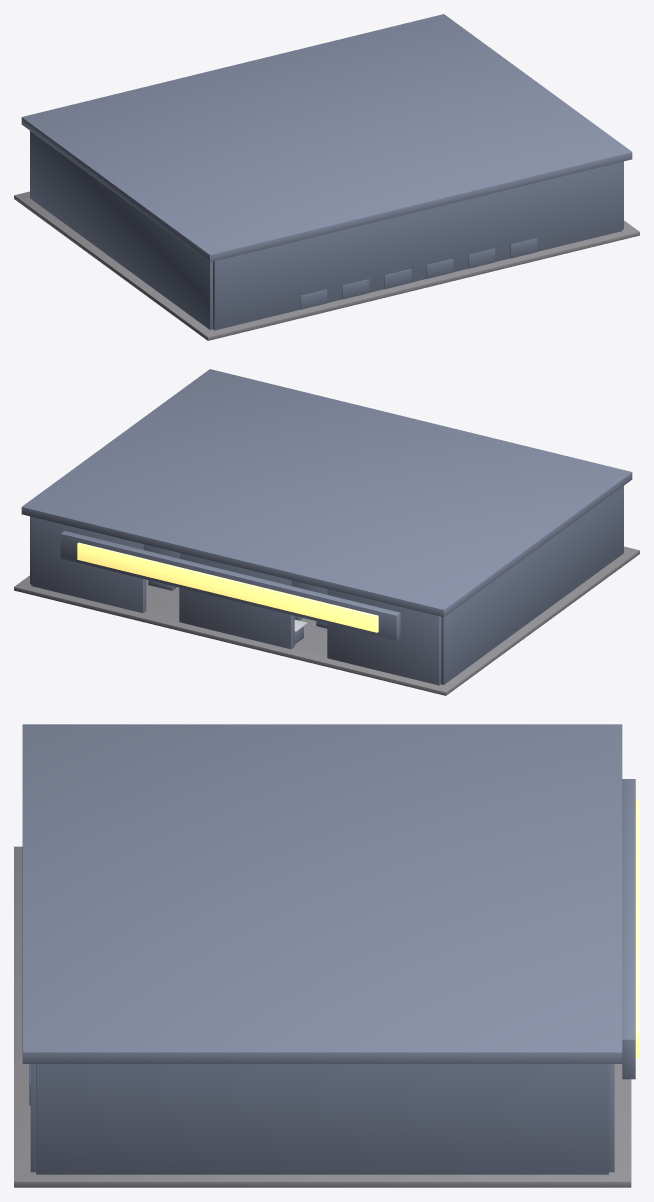
The model's file is th12_bowlingbahn.glb.
The picture shows the model from 3 angles, top to bottom: view 1: azimuth 30°, elevation 25°; view 2: azimuth 150°, elevation 25°; view 3: azimuth 270°, elevation 25°; orthographic projection. The views are drawn at different scales.
Visible parts, largest first — view 1: Cube.010, Cube.007, Cube.008, Cube; view 2: Cube.010, Cube.008, Cube, Cube.002, Cube.004, Cube.012, Cube.011, Cube.003, Cube.001; view 3: Cube.010, Cube.009, Cube, Cube.011, Cube.012, Cube.004, Cube.007.
Boxes of the visible parts, x1,y1,x2,y2 form: Cube.010: (21, 14, 632, 262); Cube.007: (213, 162, 622, 330); Cube.008: (30, 131, 212, 329); Cube: (14, 191, 639, 340); Cube.010: (21, 369, 632, 617); Cube.008: (441, 486, 623, 684); Cube: (14, 546, 639, 695); Cube.002: (327, 589, 440, 685); Cube.004: (31, 517, 146, 613); Cube.012: (77, 542, 378, 632); Cube.011: (60, 531, 400, 640); Cube.003: (179, 553, 294, 649); Cube.001: (146, 588, 327, 656); Cube.010: (22, 724, 622, 1063); Cube.009: (36, 1064, 608, 1174); Cube: (14, 846, 631, 1187); Cube.011: (622, 779, 635, 1079); Cube.012: (635, 800, 639, 1058); Cube.004: (609, 1064, 614, 1172); Cube.007: (30, 1064, 35, 1172).
Bounding box in the file's own units: 36 × 6.6 × 28.4.
